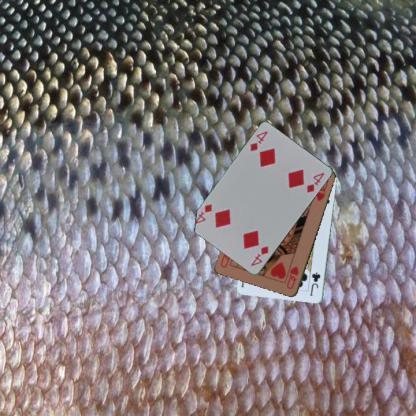4d: (245, 128, 270, 153), (248, 242, 270, 268)
Jc: (307, 270, 322, 297)
Qh: (284, 263, 300, 290)
